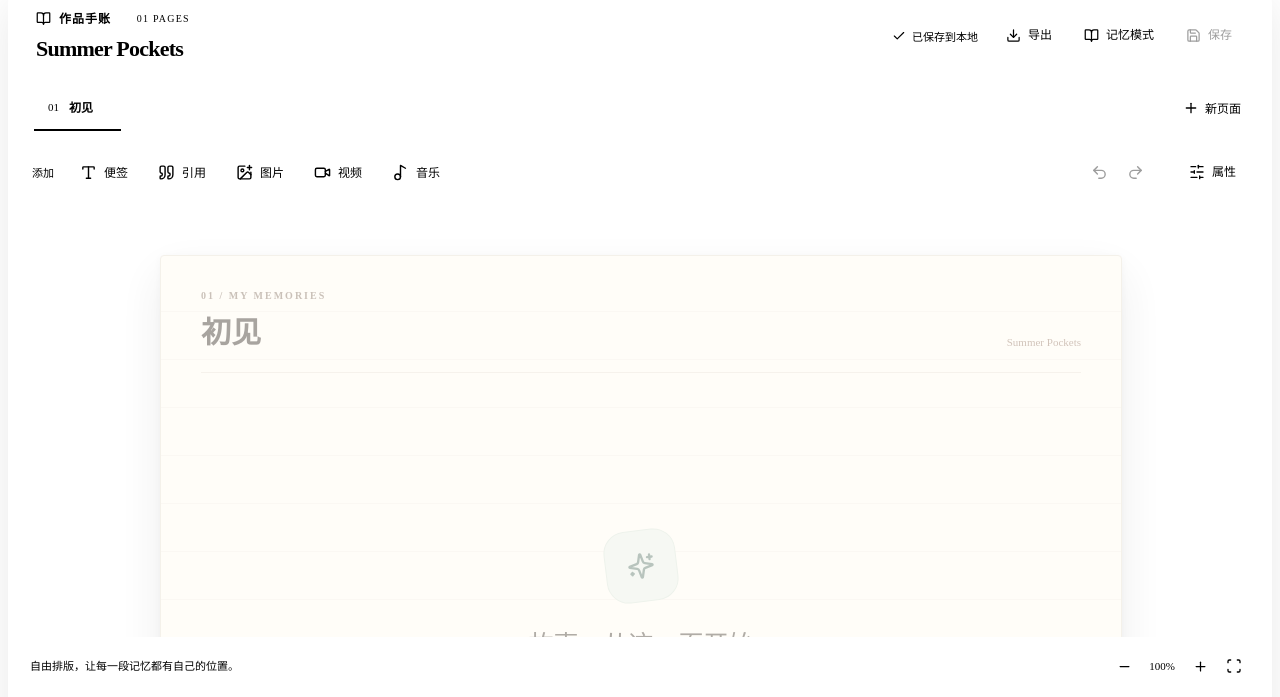
Test case: JournalWorkspace play-session picker › shows the unbound state when Reina has no confirmed link
This screenshot has width=1280, height=697.
Click the button with aria-label "切换属性面板" at (1212, 172), box [1177,156,1248,188]
(page scrolled)
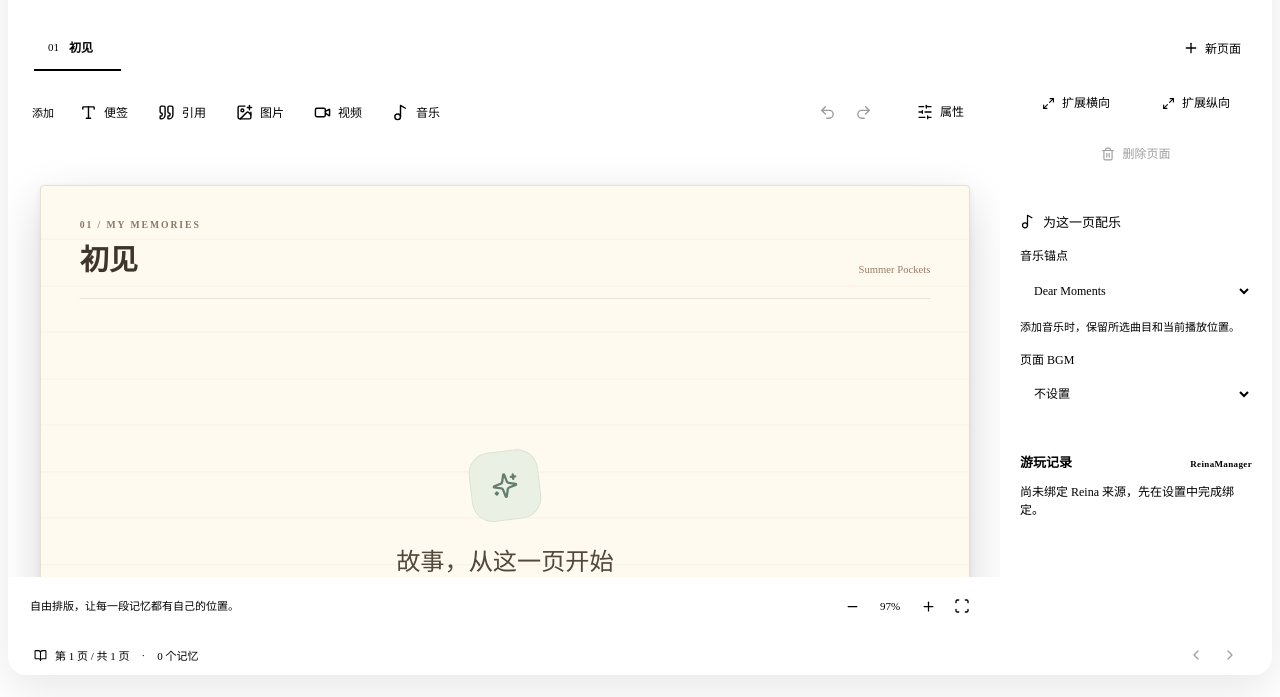
Now the text "尚未绑定 Reina 来源，先在设置中完成绑定。" is shown, box [1020,483,1252,519]
